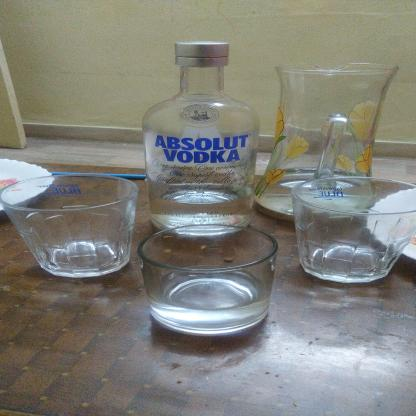bottle: (141, 42, 266, 239)
